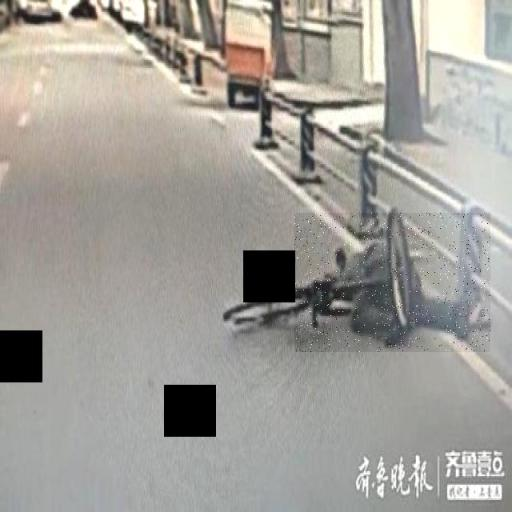Fall: (295, 213, 491, 352)
